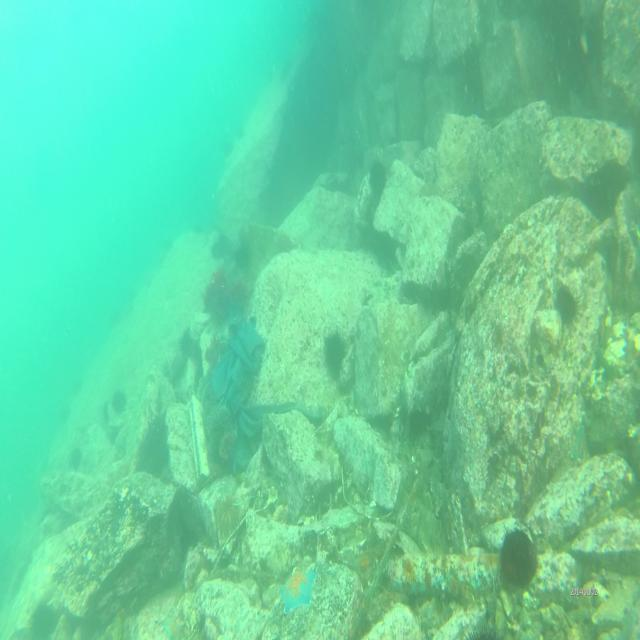echinus: (500, 529, 538, 590), (552, 278, 578, 328), (324, 328, 348, 372), (214, 491, 239, 533), (367, 157, 385, 190), (111, 390, 127, 417), (72, 446, 84, 472)
starfish: (278, 563, 317, 616)
